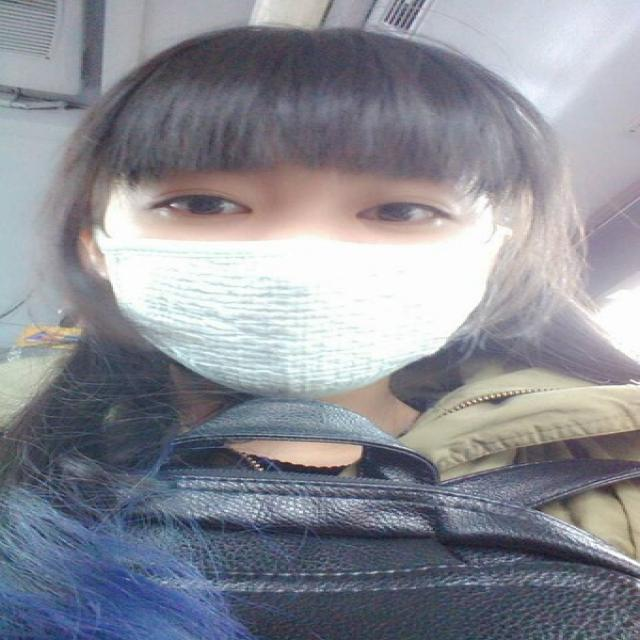mask: (105, 102, 482, 399)
